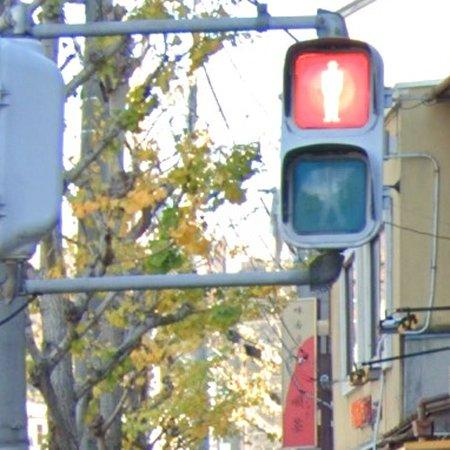traffic lights: (278, 38, 386, 252)
